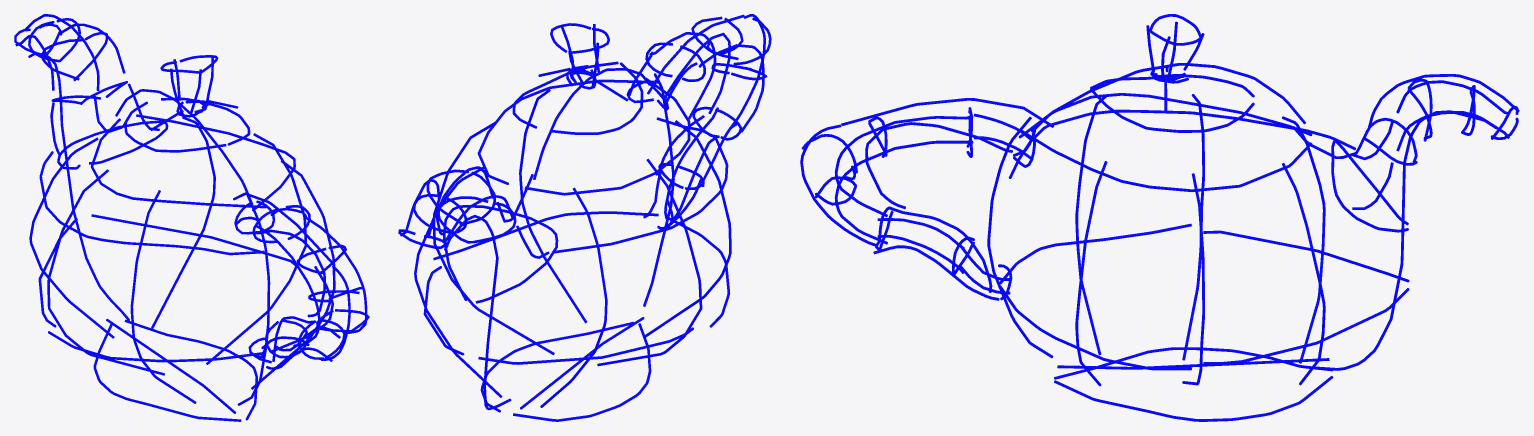
Rendered from cassie_teapot.glb.
The picture shows the model from 3 angles, left to right: view 1: azimuth 30°, elevation 25°; view 2: azimuth 150°, elevation 25°; view 3: azimuth 270°, elevation 25°; orthographic projection. The views are drawn at different scales.
Visible parts, largest first — view 1: cassie_teapot; view 2: cassie_teapot; view 3: cassie_teapot.
Part boxes in pixels (x1,y1,x2,y2): cassie_teapot: (14,14,369,421); cassie_teapot: (398,14,771,421); cassie_teapot: (800,14,1519,421).
Bounding box in the file's own units: 0.4786 × 0.556 × 1.
